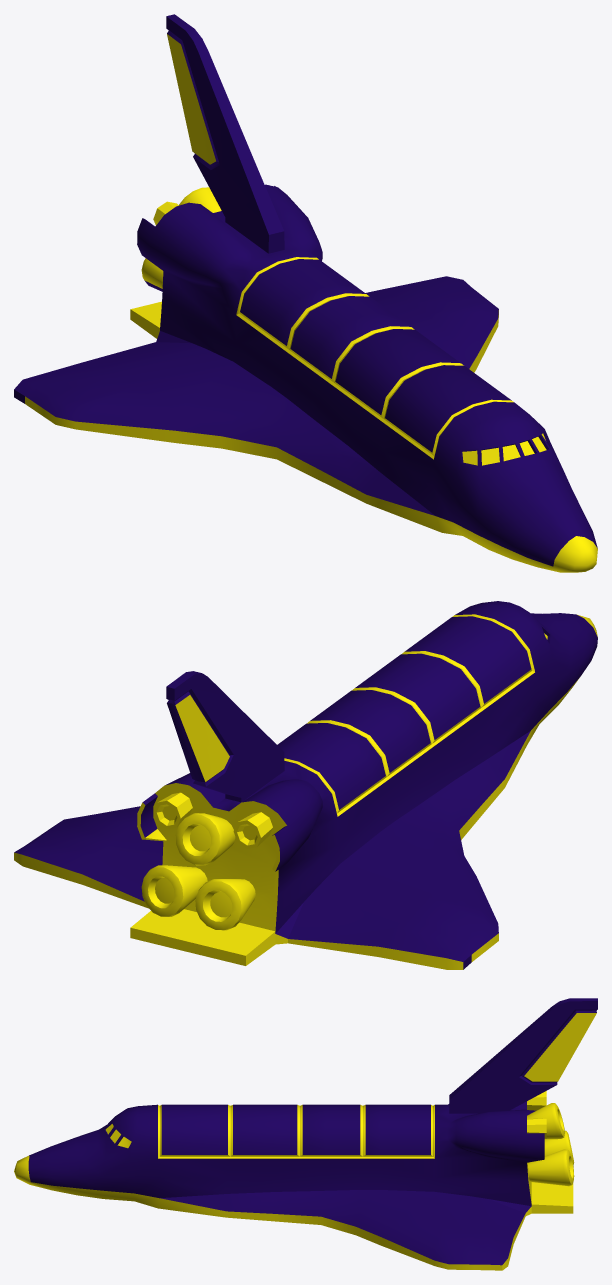
Rendered from spaceship2.glb.
3 renders of one model, top to bottom at view 1: azimuth 30°, elevation 25°; view 2: azimuth 150°, elevation 25°; view 3: azimuth 270°, elevation 25°, orthographic. The views are drawn at different scales.
Parts seen in each view (by area): view 1: space-shuttle.obj; view 2: space-shuttle.obj; view 3: space-shuttle.obj.
Part boxes in pixels (x1,y1,x2,y2): space-shuttle.obj: (14, 14, 597, 572); space-shuttle.obj: (14, 601, 597, 969); space-shuttle.obj: (14, 998, 597, 1270).
Bounding box in the file's own units: 35.15 × 20.73 × 56.48.
